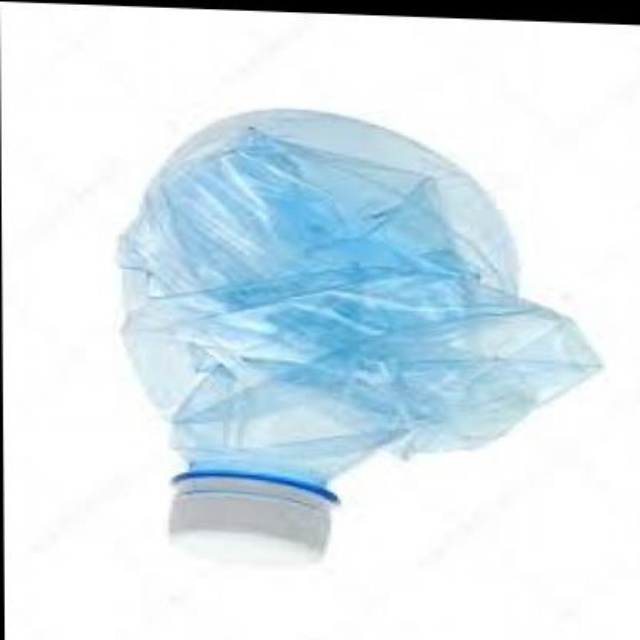trash: (120, 109, 600, 500)
